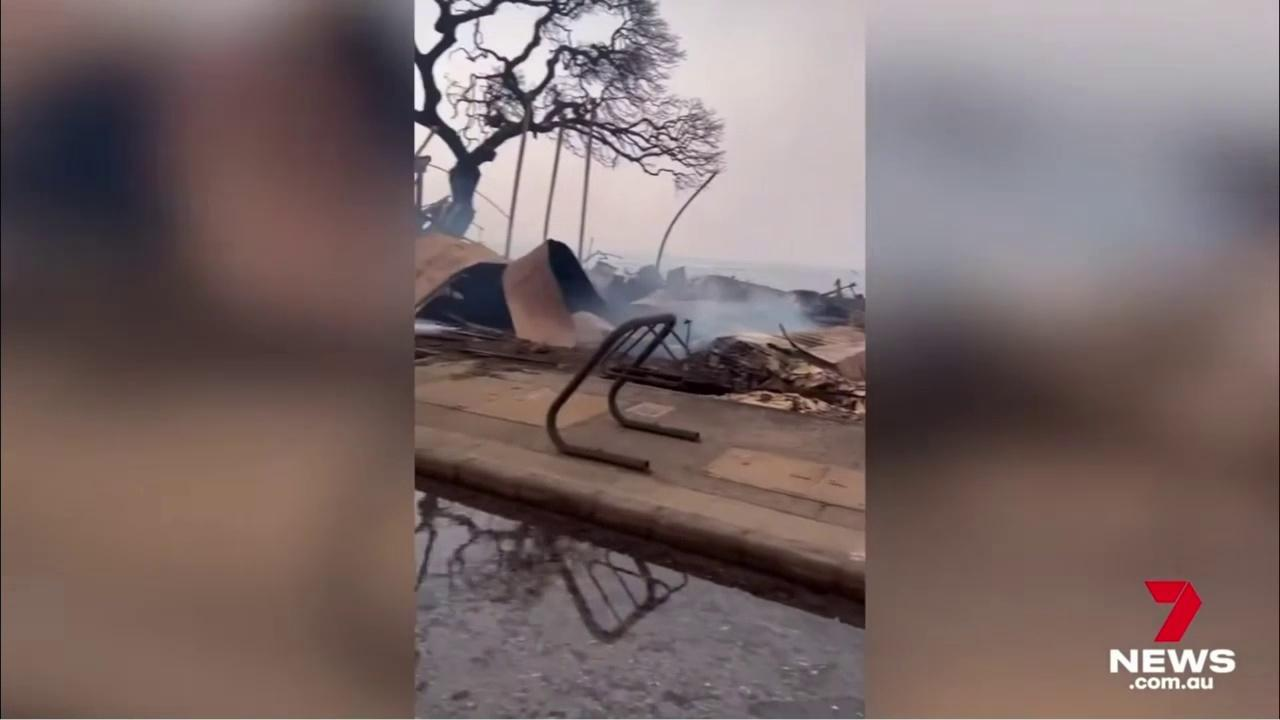smoke: (584, 266, 826, 346)
